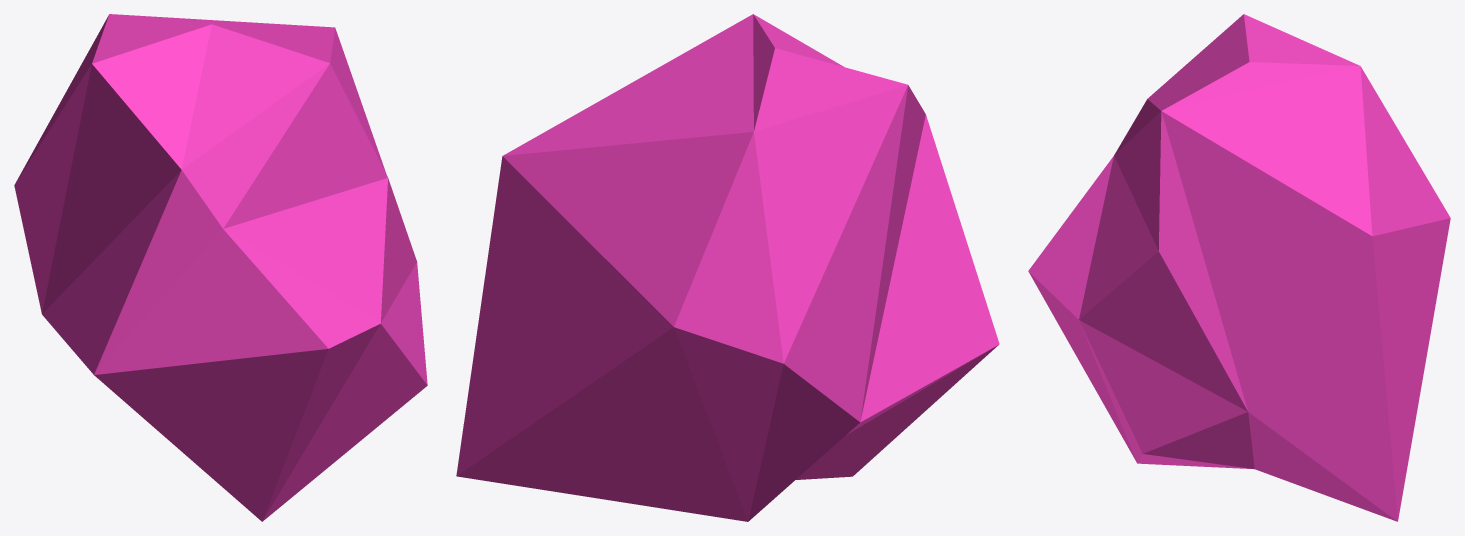
Rendered from item_volatile_brain_chunk.glb.
The picture shows the model from 3 angles, left to right: view 1: azimuth 30°, elevation 25°; view 2: azimuth 150°, elevation 25°; view 3: azimuth 270°, elevation 25°; orthographic projection. The views are drawn at different scales.
Visible parts, largest first — view 1: UraniumBlob_Med; view 2: UraniumBlob_Med; view 3: UraniumBlob_Med.
Part boxes in pixels (x1,y1,x2,y2): UraniumBlob_Med: (14, 14, 427, 521); UraniumBlob_Med: (456, 14, 999, 521); UraniumBlob_Med: (1028, 14, 1450, 521).
Size of the model in its own units: 0.428 by 0.4758 by 0.448.
